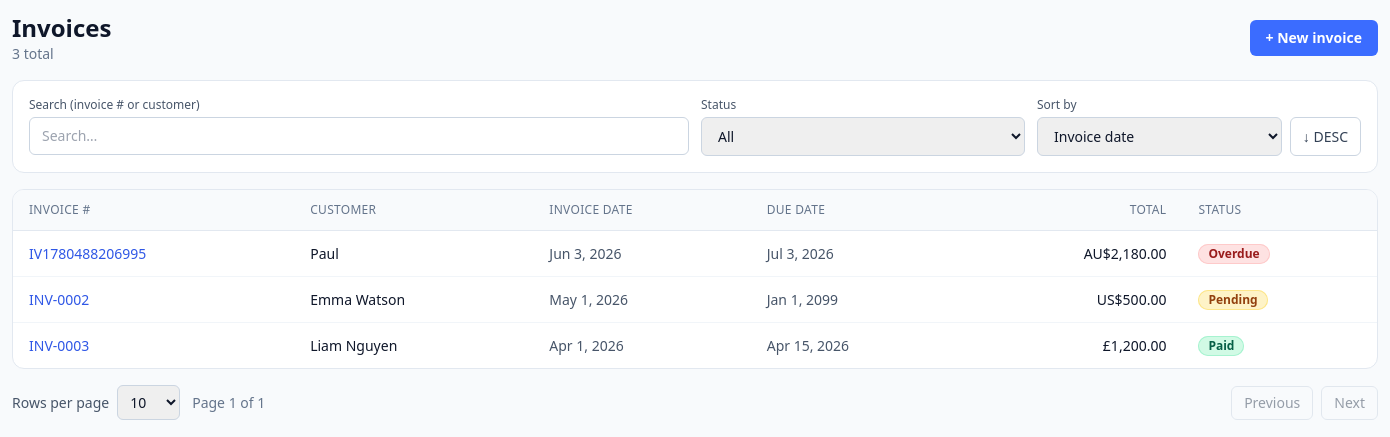
Test: InvoiceListPage › filters by status
Check: the row with test id "invoice-row" that starts with "IV1780488206995" is shown, box [13, 230, 1377, 276]
Select "Paid" in the dropdown labelled "Status" at (863, 136), box [701, 117, 1025, 156]
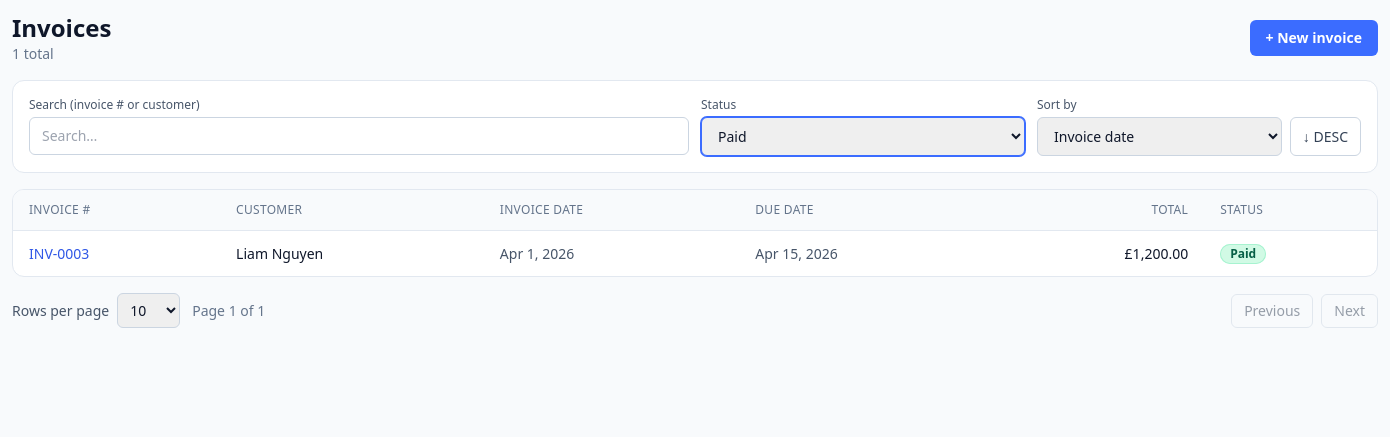
Check: the text "INV-0003" is shown, box [13, 230, 220, 276]
Check: the number of rows with test id "invoice-row" is 1, box [13, 230, 1377, 276]
